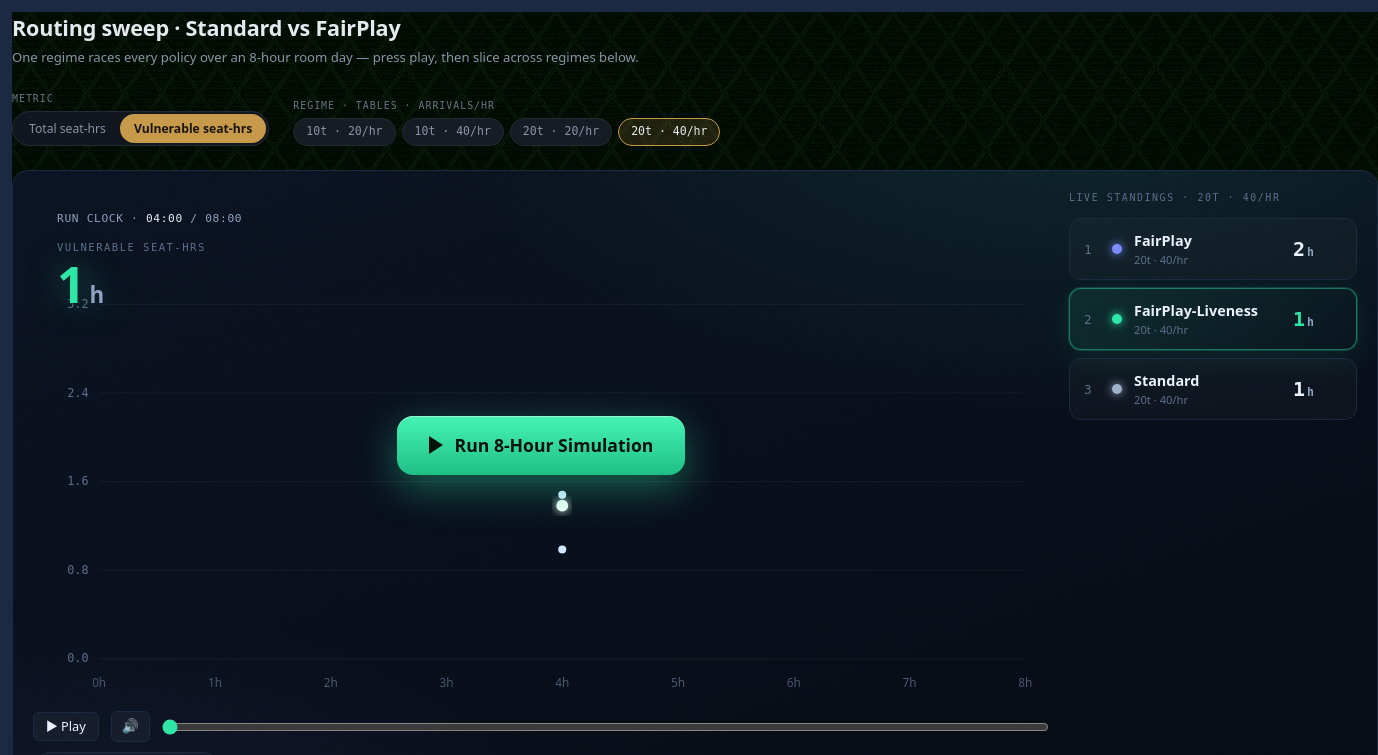
Test: DashboardView render › the big HUD readout matches the leading policy at the finish
Set the slider named "scrub replay" to "1" at (1041, 727), box [162,719,1049,735]
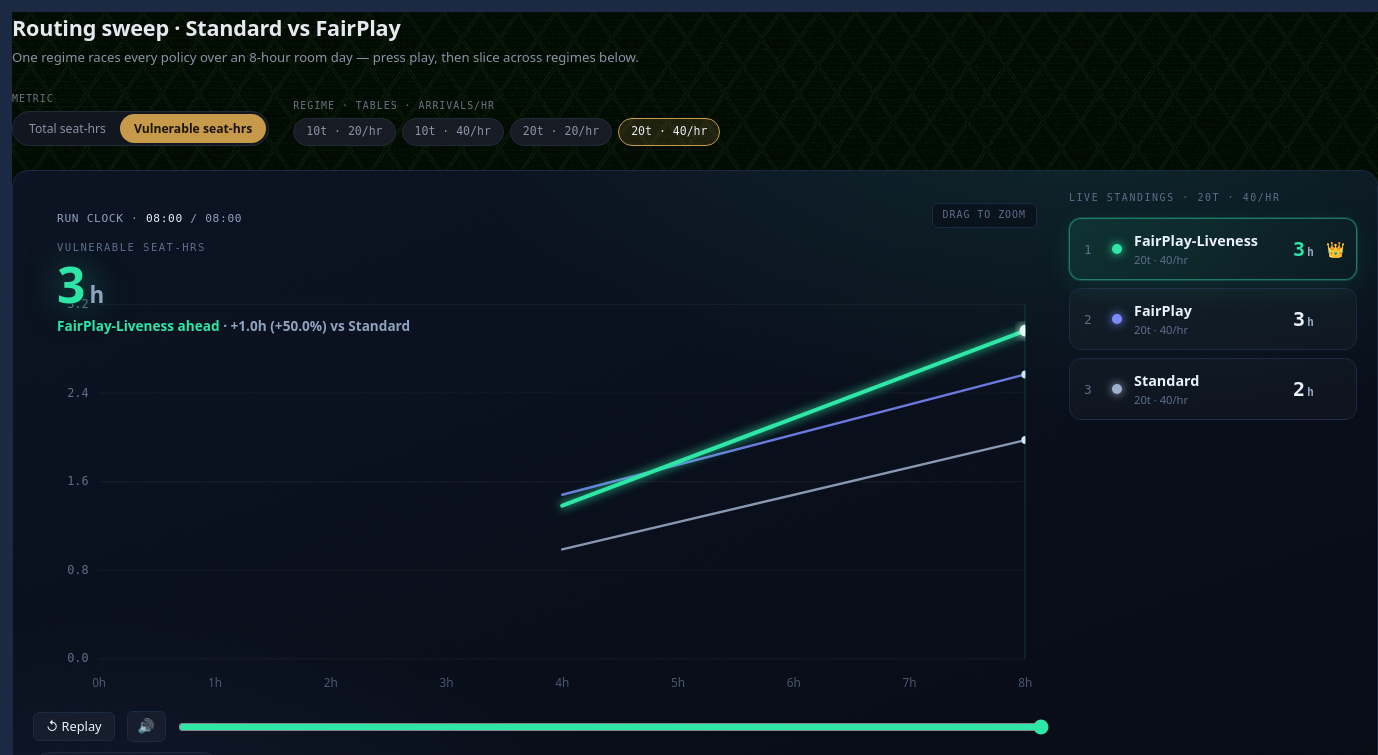
Expected: the element with test id "race-score" shows "3", [57,250,85,318]
Expected: the element with test id "^race-standing-" shows "3", [1293,237,1305,261]
